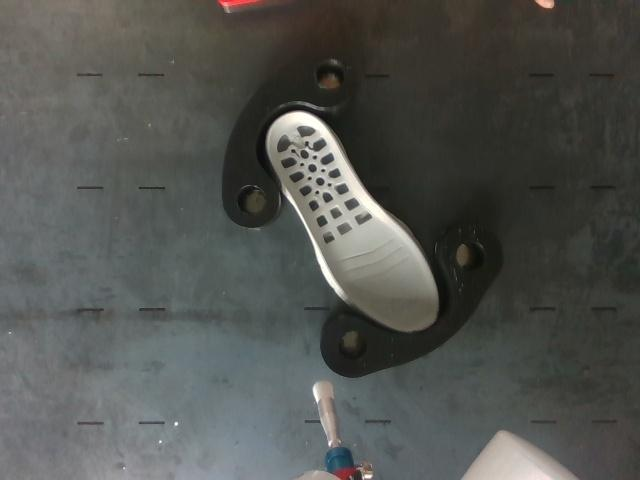shoes: (267, 112, 438, 332)
